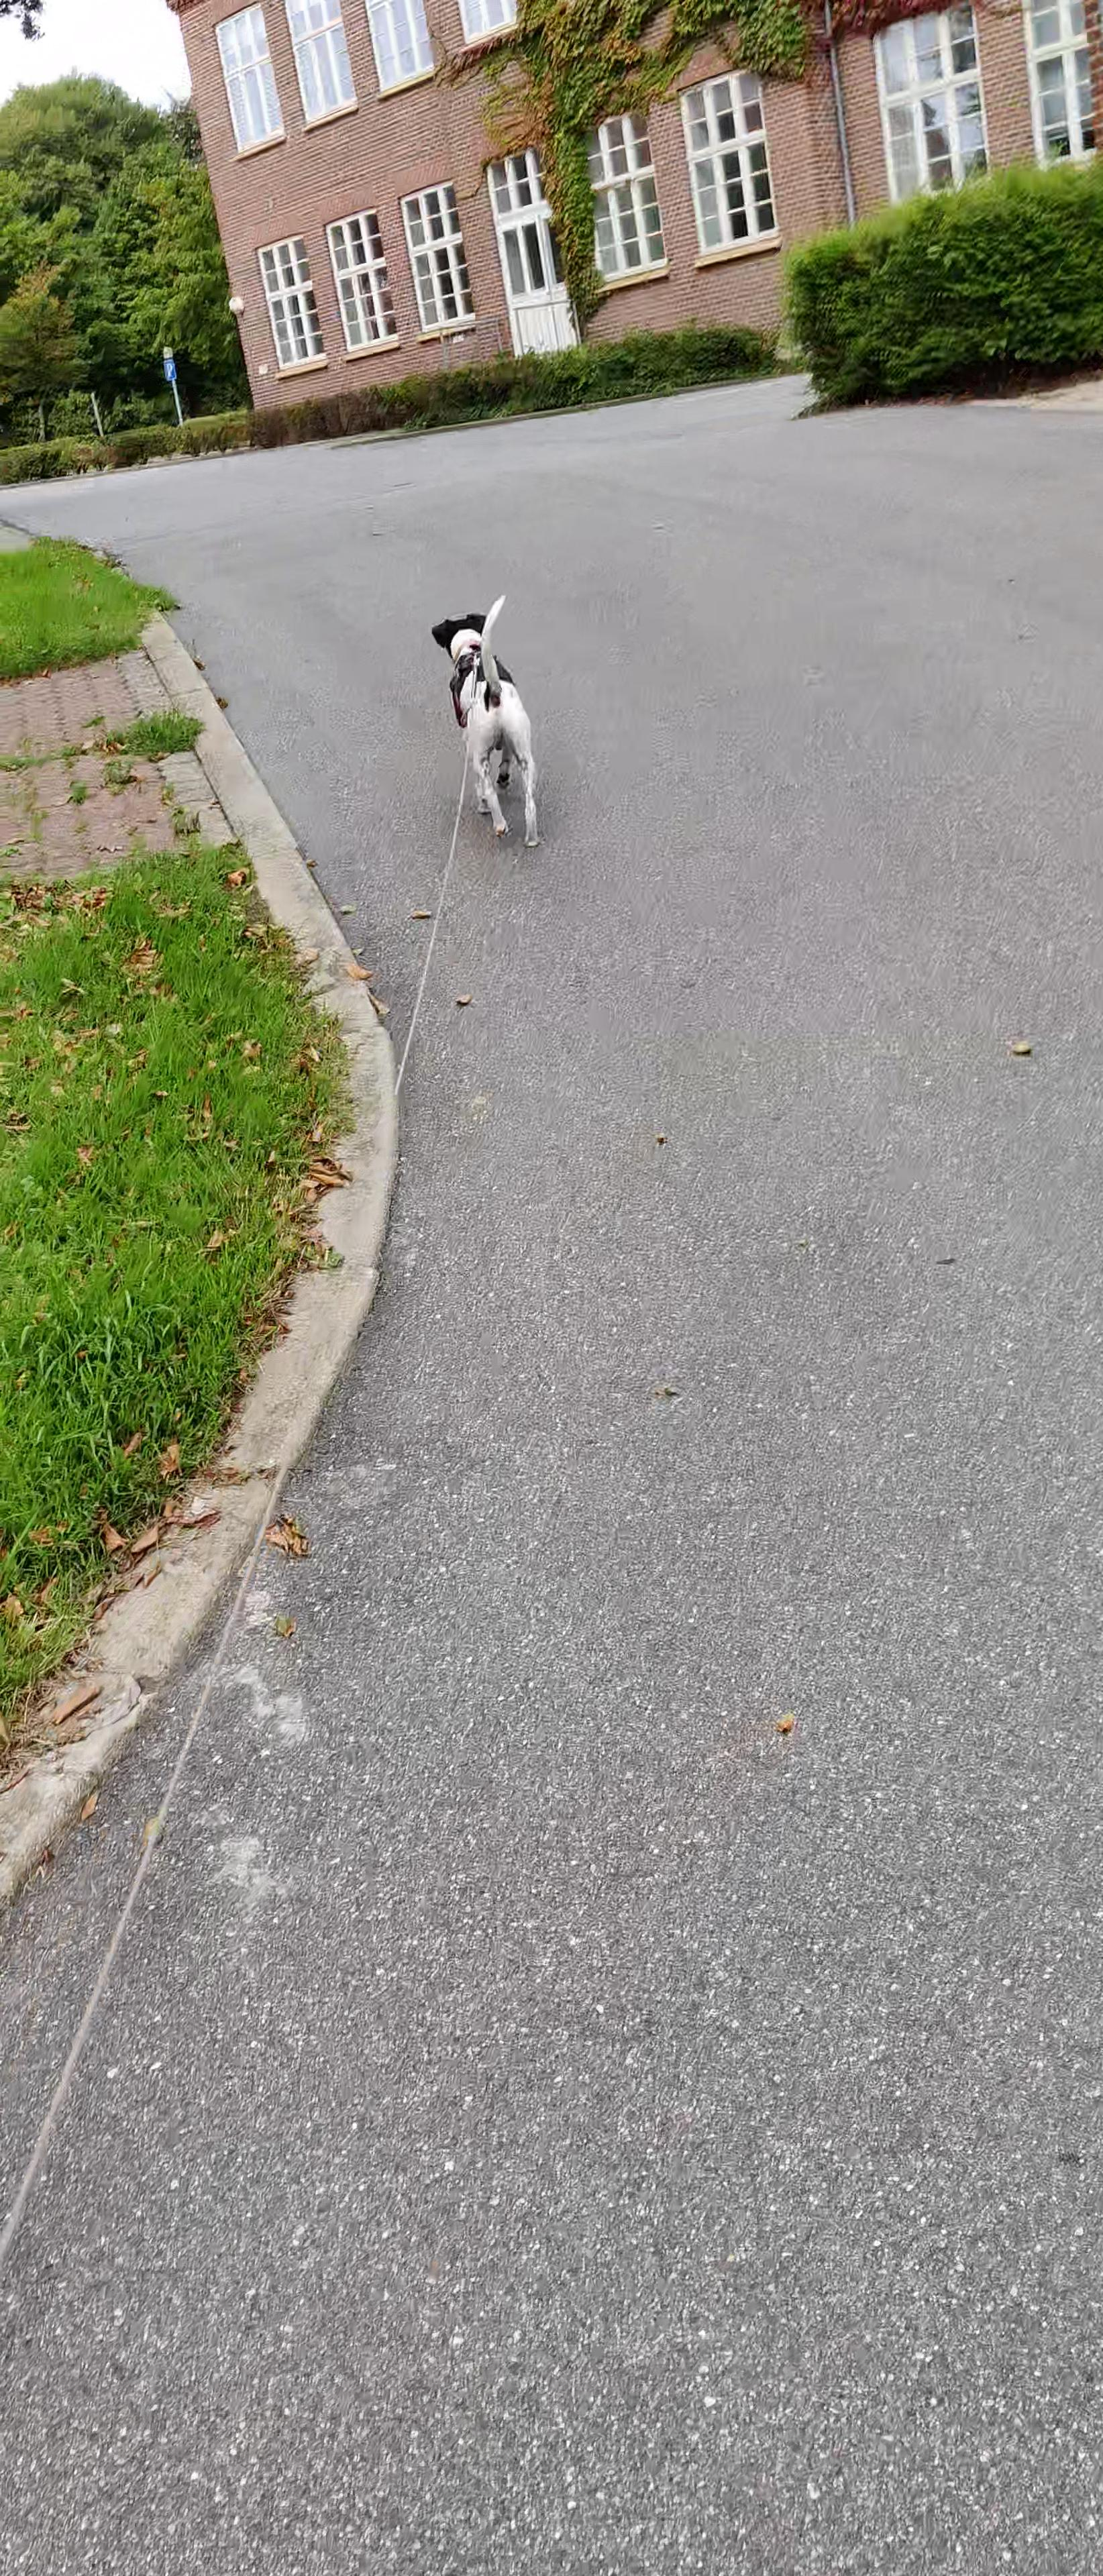Dog: (424, 586, 556, 853)
